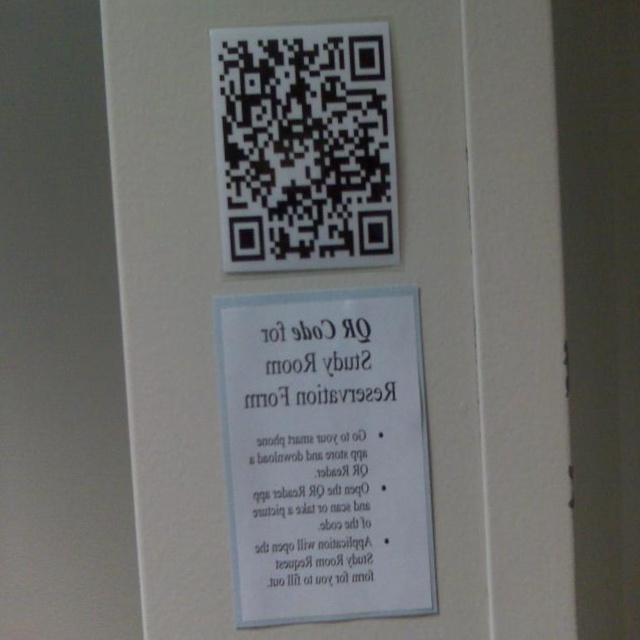qr-code: (218, 30, 397, 265)
